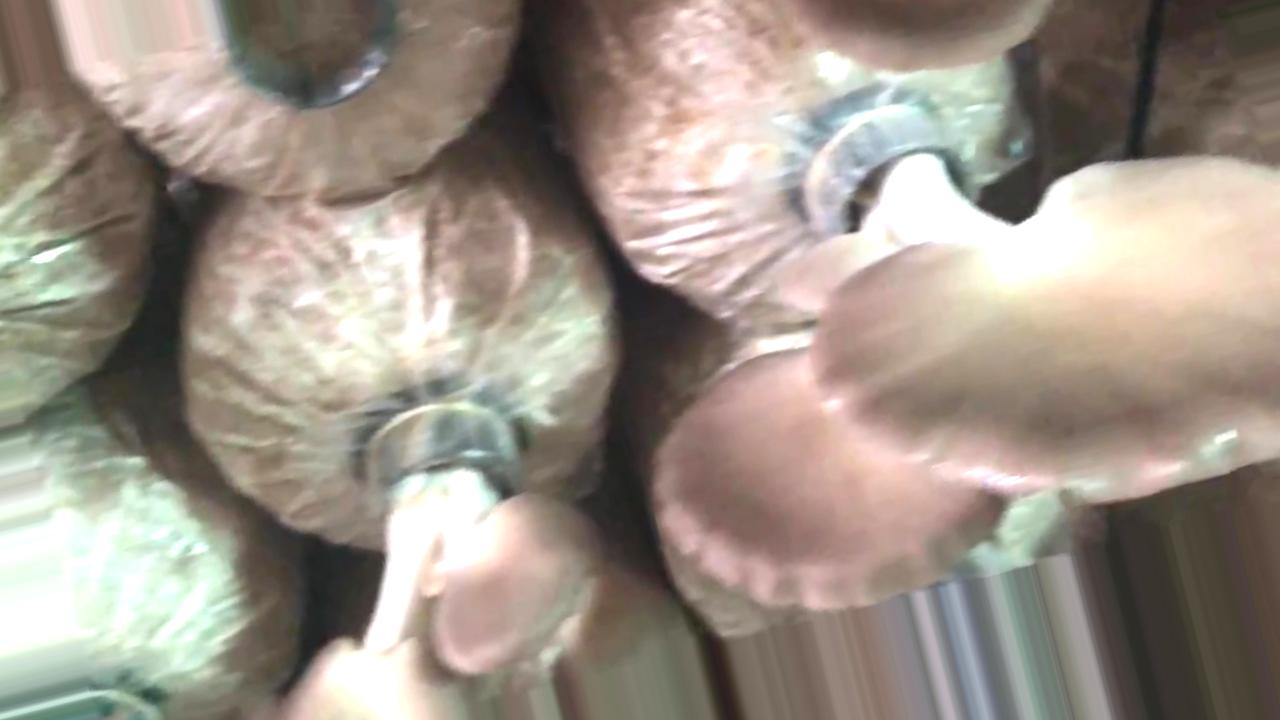nam: (645, 84, 1280, 615), (289, 371, 613, 720)
